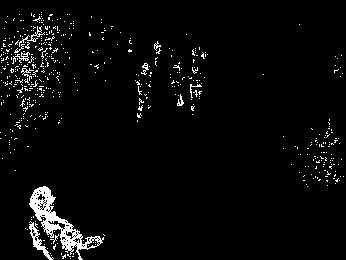person: (133, 64, 157, 119), (166, 63, 189, 109), (190, 64, 210, 114)
